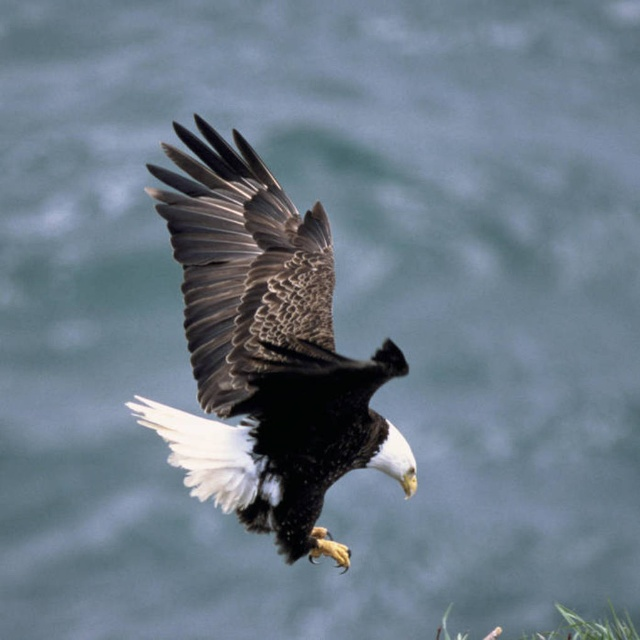Eagle: (121, 114, 420, 578)
